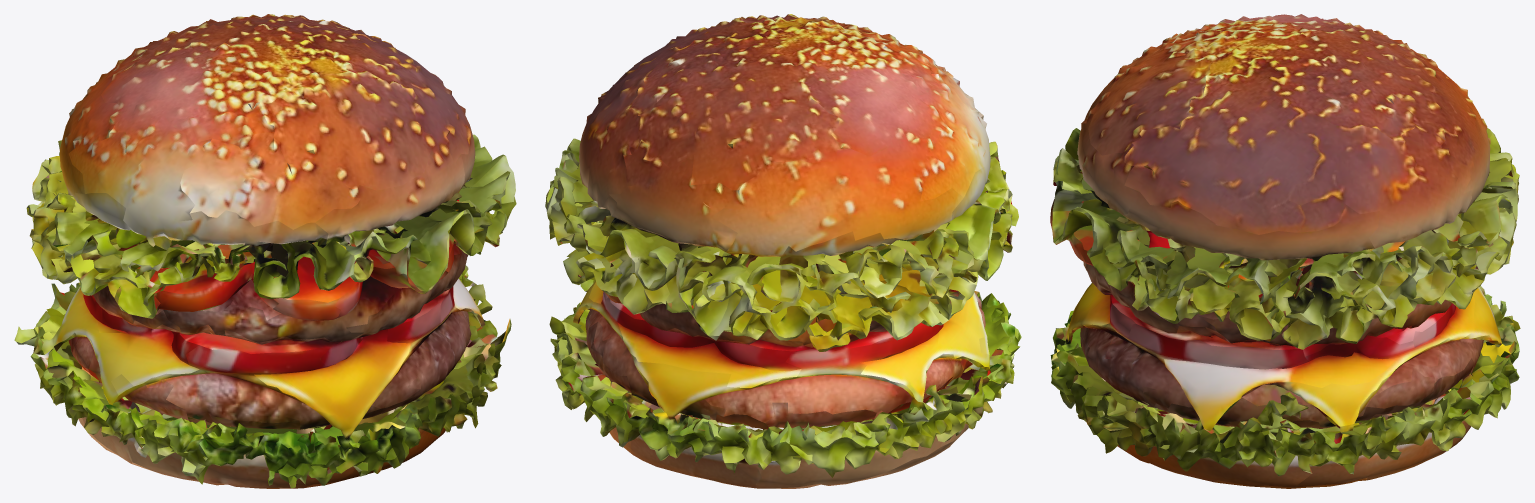
Rendered from burger2.glb.
3 renders of one model, left to right at view 1: azimuth 30°, elevation 25°; view 2: azimuth 150°, elevation 25°; view 3: azimuth 270°, elevation 25°, orthographic.
Parts seen in each view (by area): view 1: tmp9w4c9_npply; view 2: tmp9w4c9_npply; view 3: tmp9w4c9_npply.
Part boxes in pixels (left/top/right/bottom): tmp9w4c9_npply: left=14, top=14, right=516, bottom=488; tmp9w4c9_npply: left=545, top=14, right=1021, bottom=488; tmp9w4c9_npply: left=1050, top=14, right=1520, bottom=488.
Size of the model in its own units: 1.96 by 1.74 by 1.95.
Materials: 1 (1 with a texture image).
